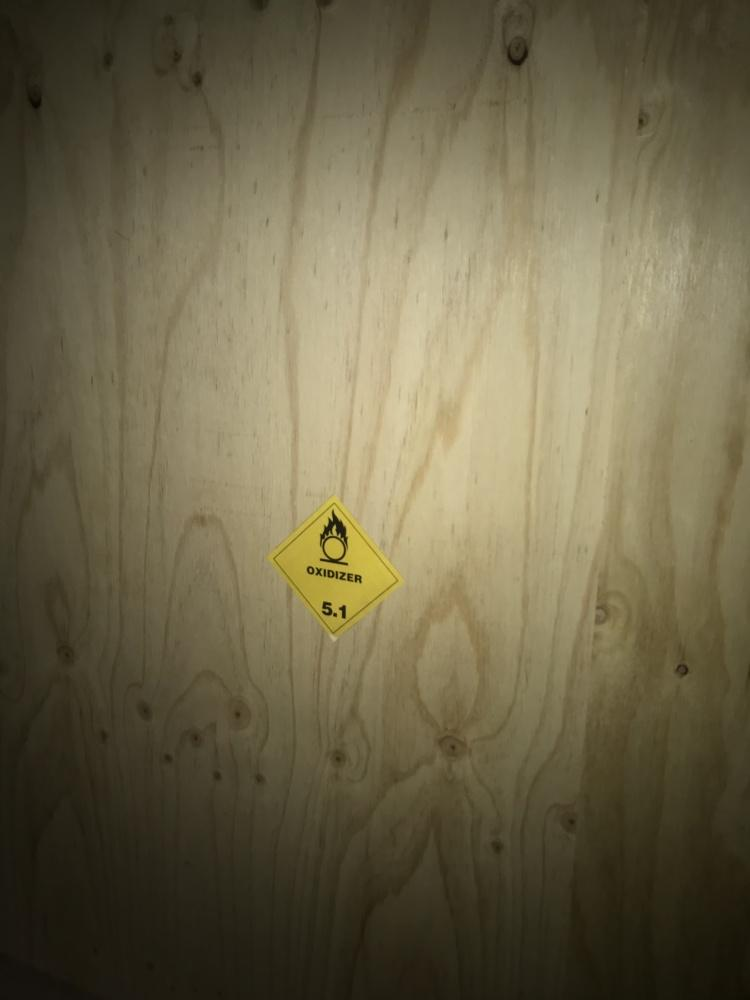oxidizer: (269, 497, 399, 640)
